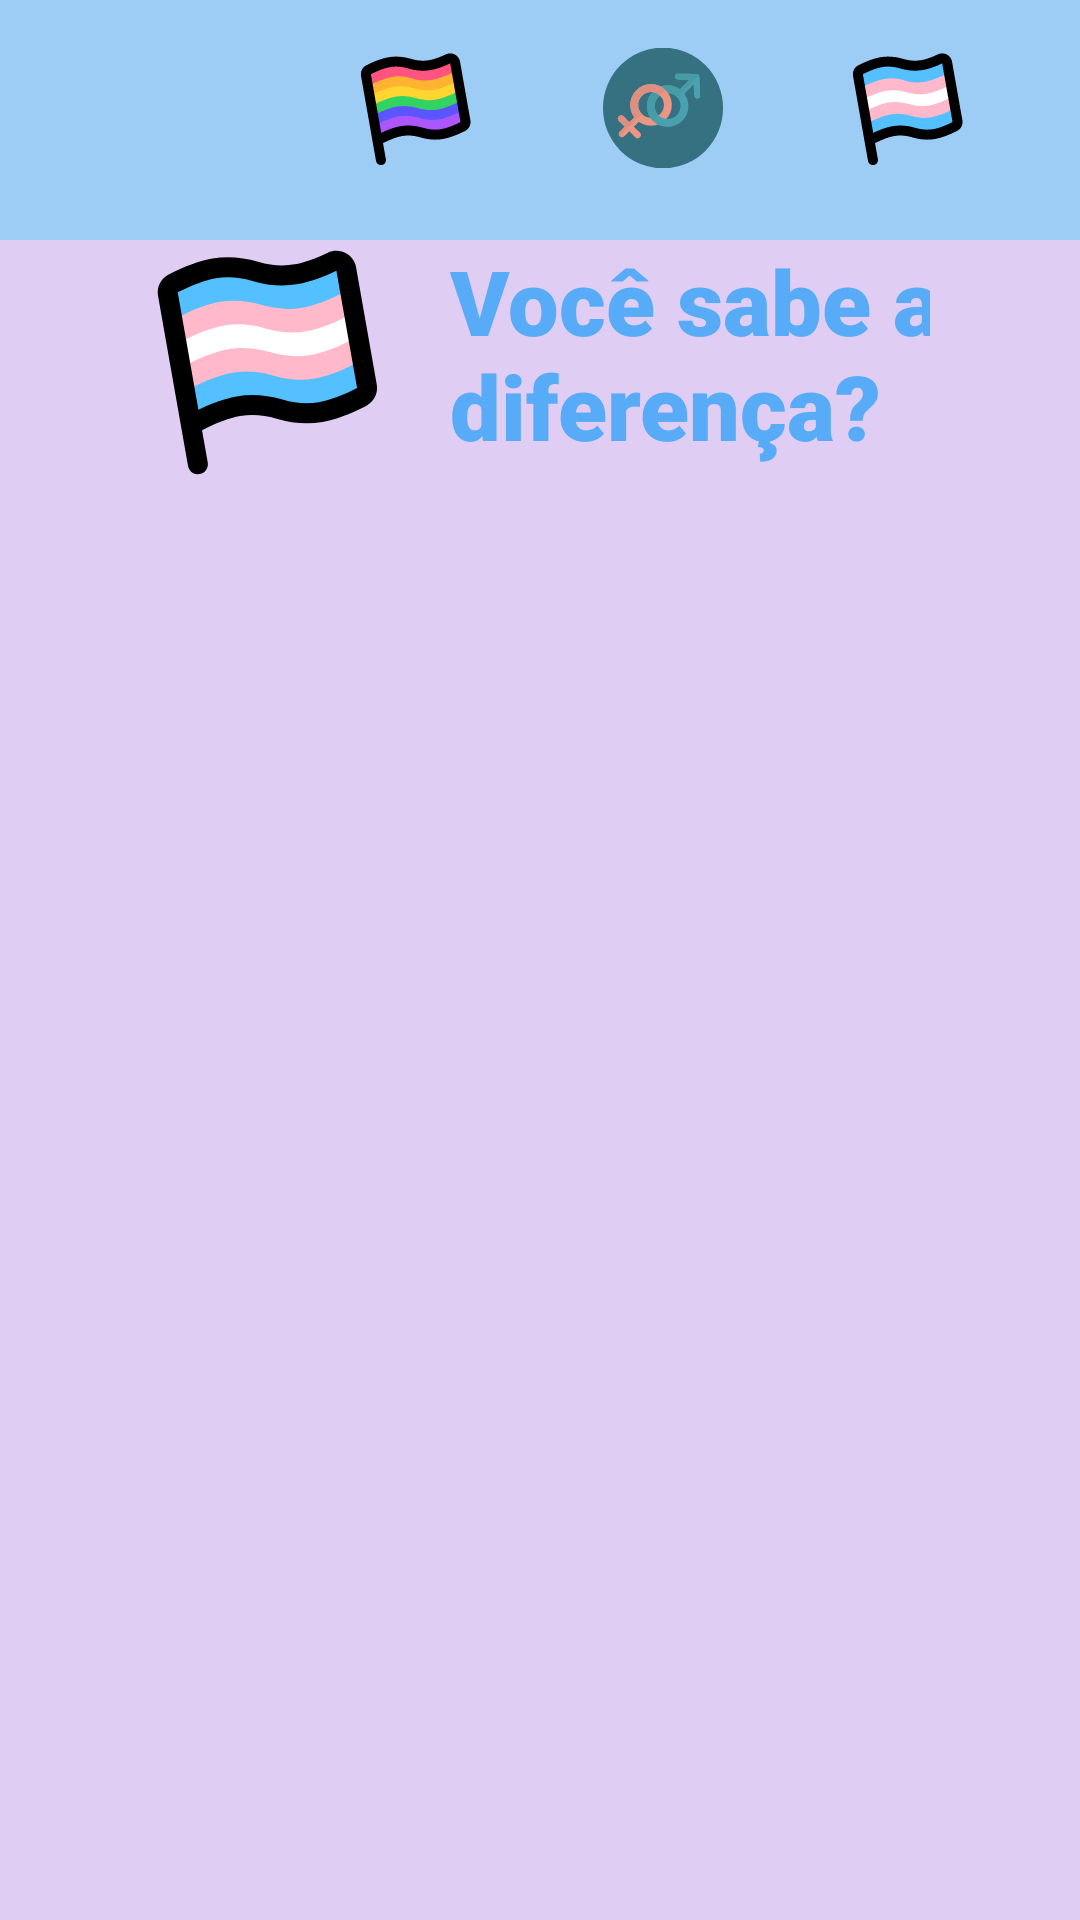

Point at icon controls on the screen. Image size 1080x1920, points as point (x, y).
flagtrans: point (907, 109), point (267, 362)
genders: point (663, 108)
lgbtflag: point (415, 109)
